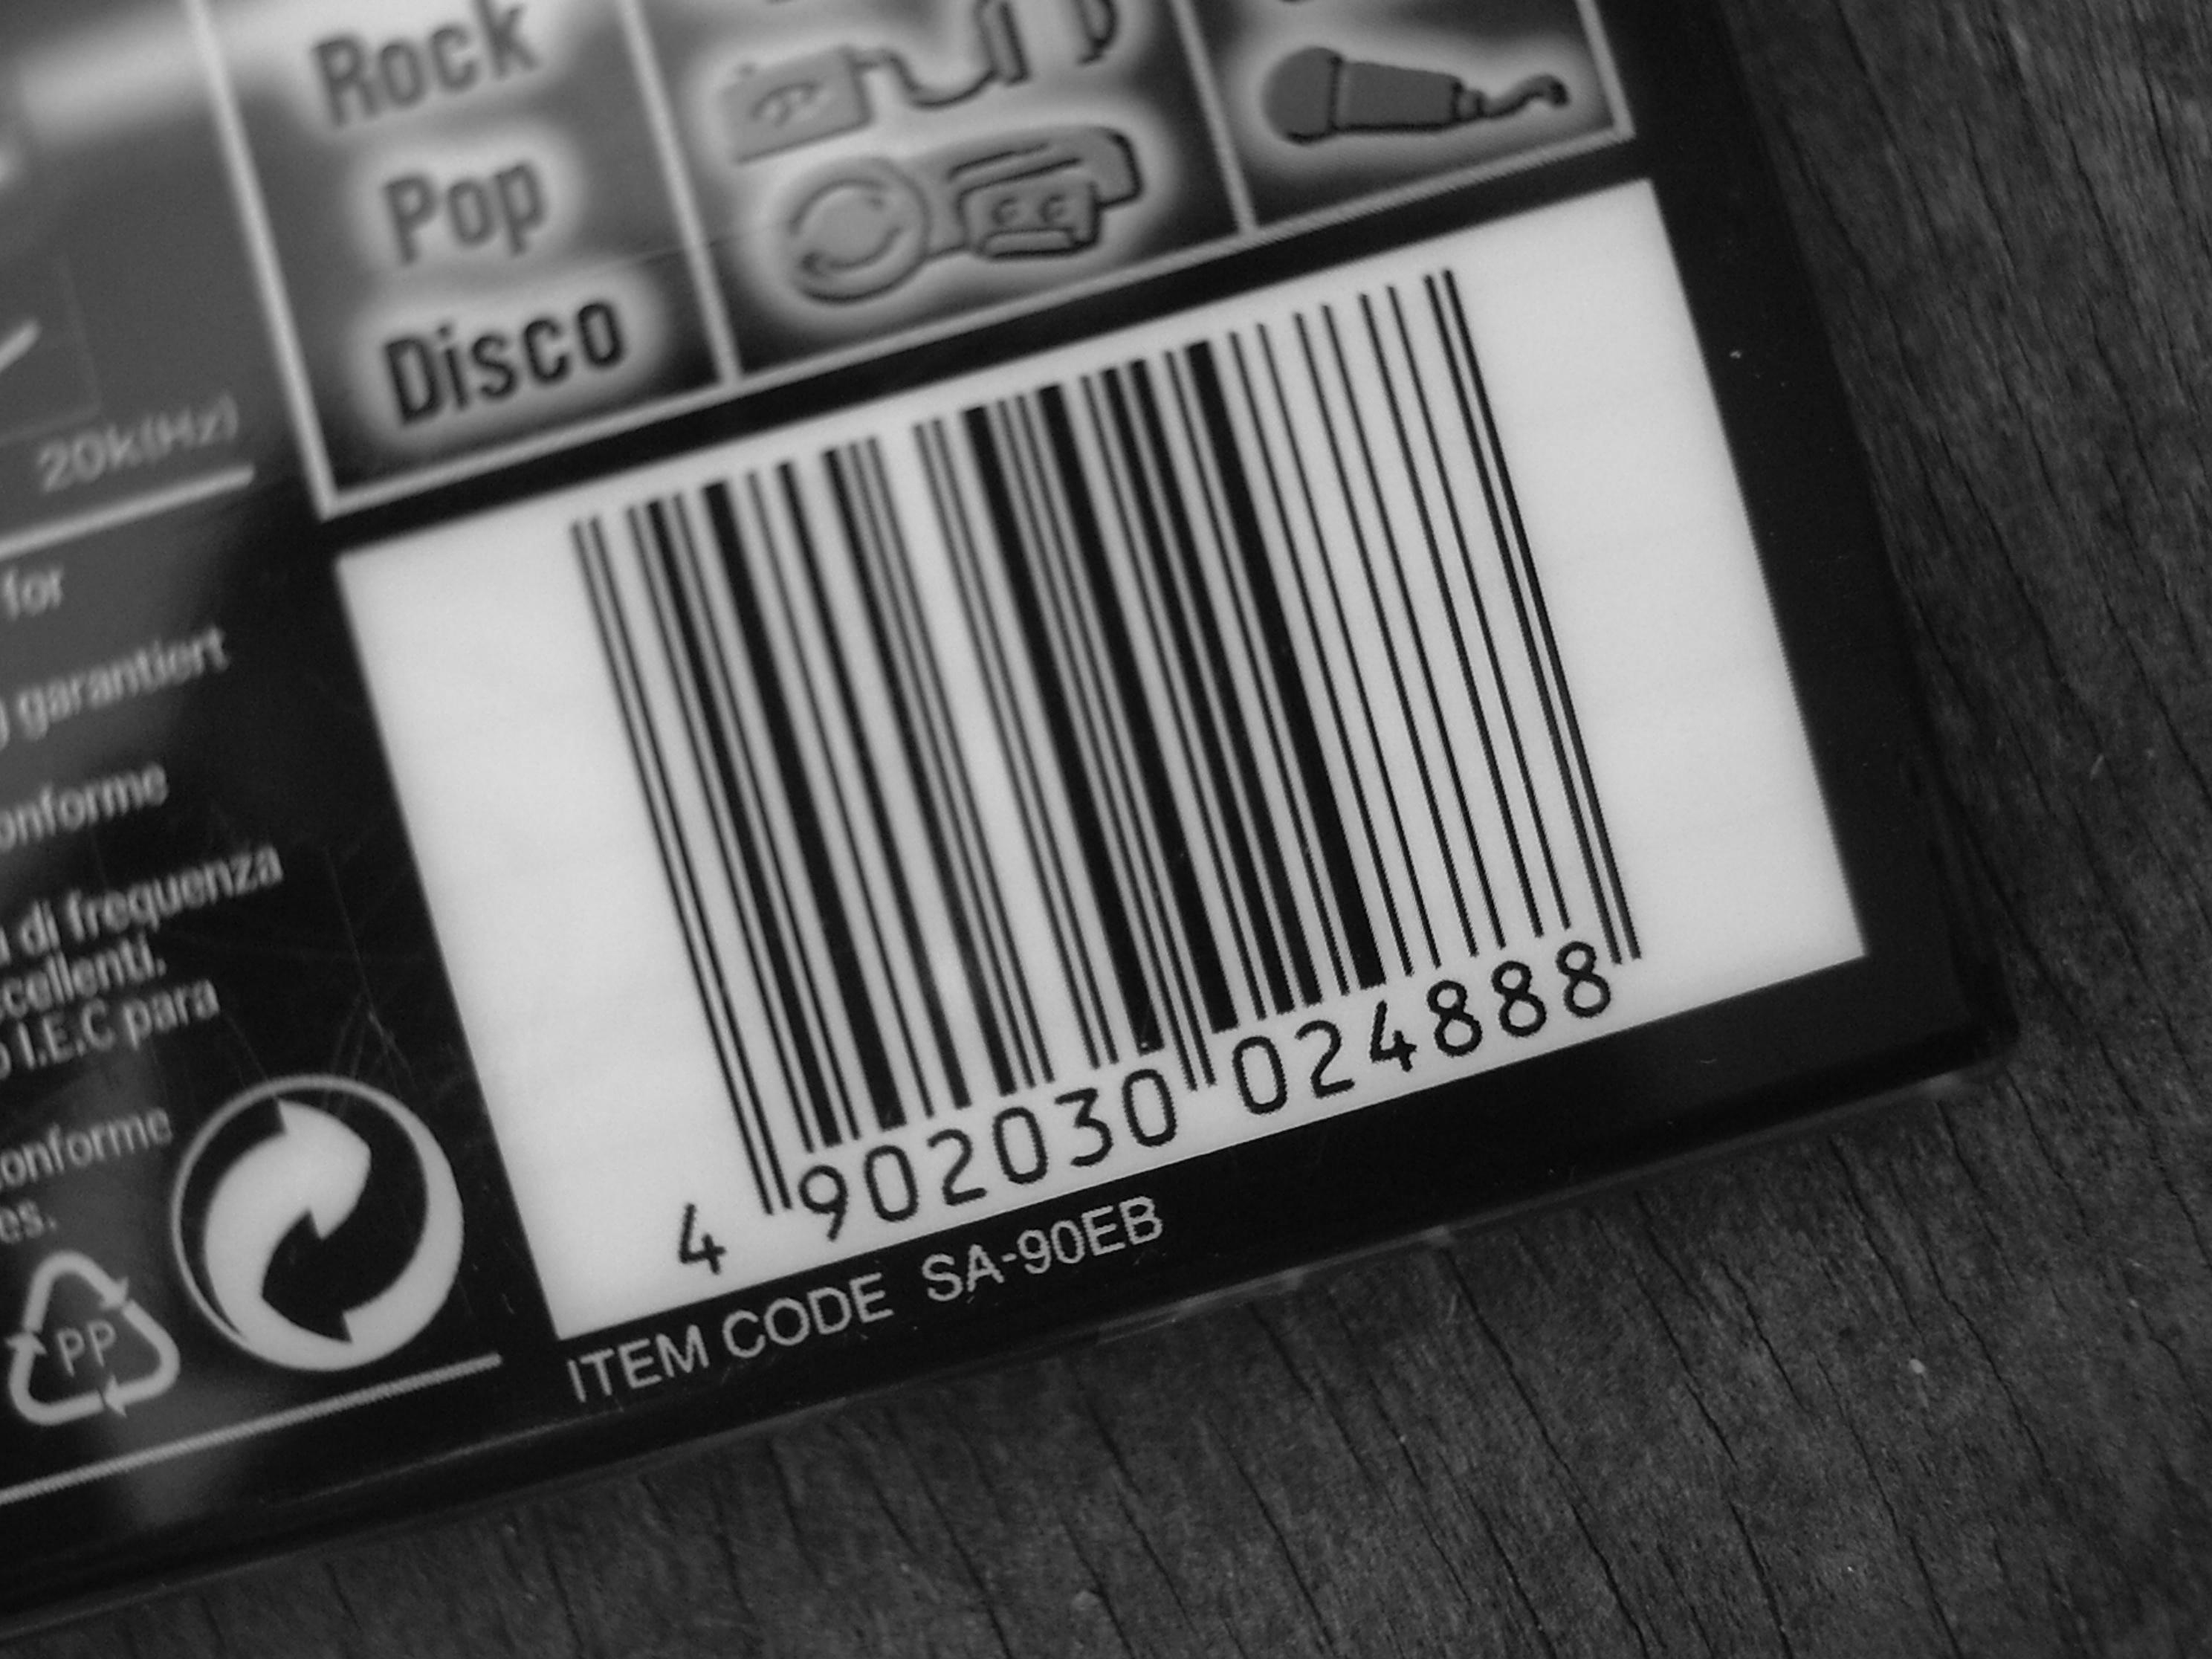Barcode: (512, 484, 1787, 981)
